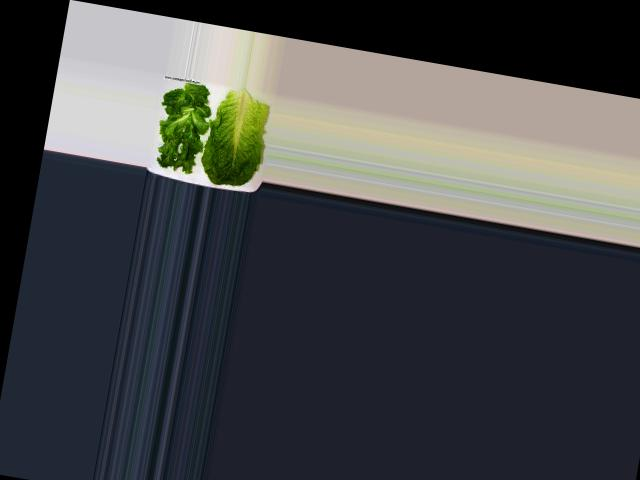lettuce: (145, 80, 212, 175)
